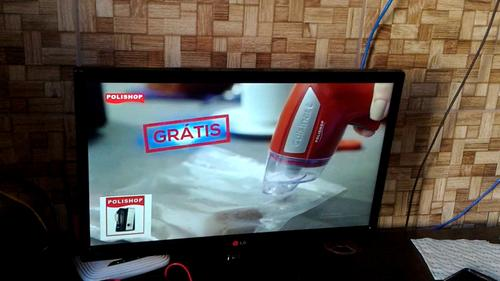Polishop #1: (100, 194, 152, 241)
